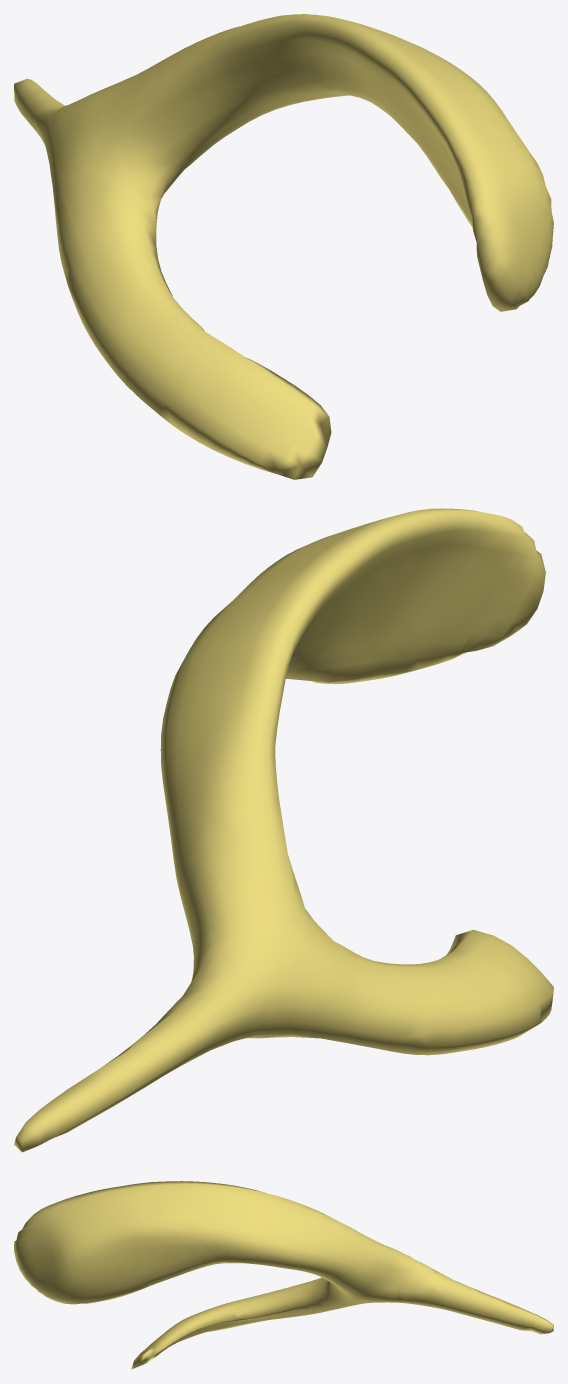
File: lateral-ventricle-r.glb
3 views of the same model, one above another, from view 1: azimuth 30°, elevation 25°; view 2: azimuth 150°, elevation 25°; view 3: azimuth 270°, elevation 25° (orthographic). The views are drawn at different scales.
Visible parts, largest first — view 1: Lateral ventricle.r; view 2: Lateral ventricle.r; view 3: Lateral ventricle.r.
Boxes of the visible parts, <box> form: Lateral ventricle.r: <box>14,14,553,479</box>; Lateral ventricle.r: <box>14,508,553,1152</box>; Lateral ventricle.r: <box>14,1181,553,1369</box>.
Bounding box in the file's own units: 0.0374 × 0.0472 × 0.1059.
